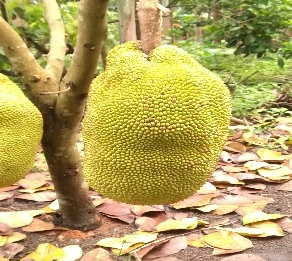Mit: (80, 42, 233, 206)
